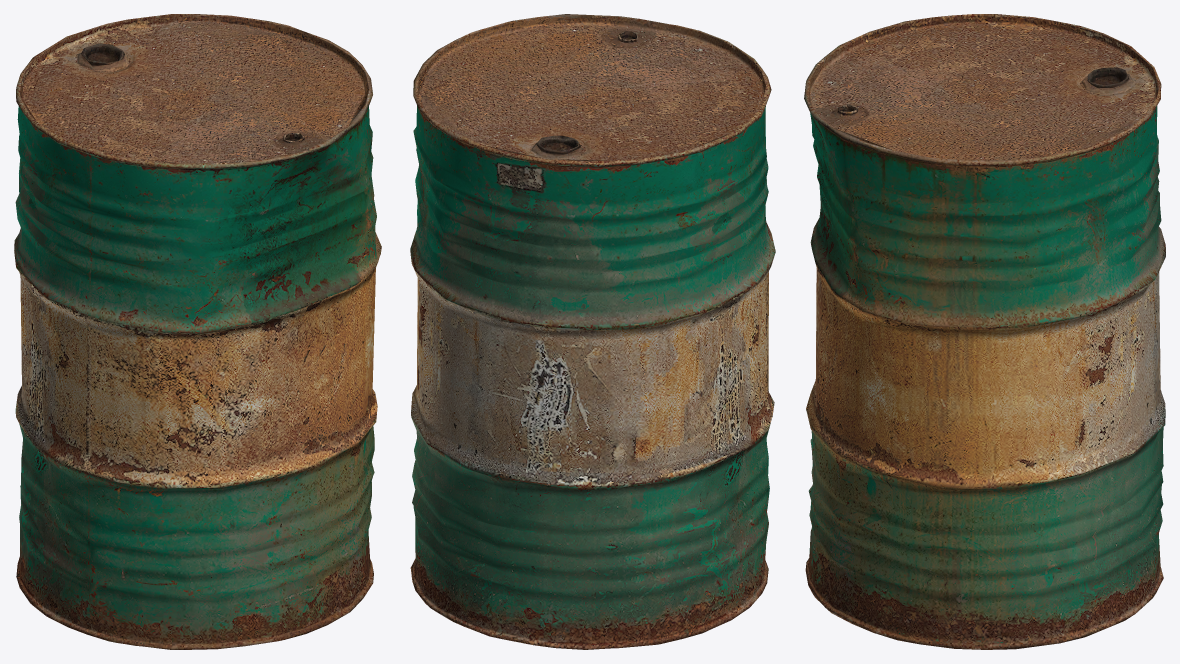
Rendered from SM_Ind_Aba_Storage_Barrel_Metal_Green_01.gltf.
3 views of the same model, side by side, from view 1: azimuth 30°, elevation 25°; view 2: azimuth 150°, elevation 25°; view 3: azimuth 270°, elevation 25° (orthographic).
Visible parts, largest first — view 1: SM_Ind_Aba_Storage_Barrel_Metal_Green_01; view 2: SM_Ind_Aba_Storage_Barrel_Metal_Green_01; view 3: SM_Ind_Aba_Storage_Barrel_Metal_Green_01.
Part boxes in pixels (left/top/right/bottom): SM_Ind_Aba_Storage_Barrel_Metal_Green_01: left=14, top=14, right=381, bottom=649; SM_Ind_Aba_Storage_Barrel_Metal_Green_01: left=410, top=14, right=775, bottom=649; SM_Ind_Aba_Storage_Barrel_Metal_Green_01: left=804, top=14, right=1165, bottom=649.
Size of the model in its own units: 0.5973 by 0.8784 by 0.5894.
1 material, 1 textured.
